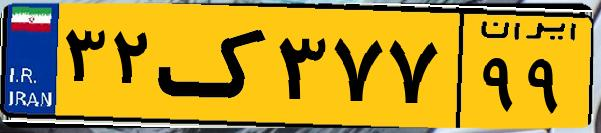2: (110, 28, 158, 98)
3: (270, 28, 330, 110), (57, 26, 110, 100)
7: (385, 28, 445, 110), (330, 28, 385, 110)
9: (475, 38, 525, 113), (525, 38, 570, 115)
ک: (158, 12, 270, 120)
